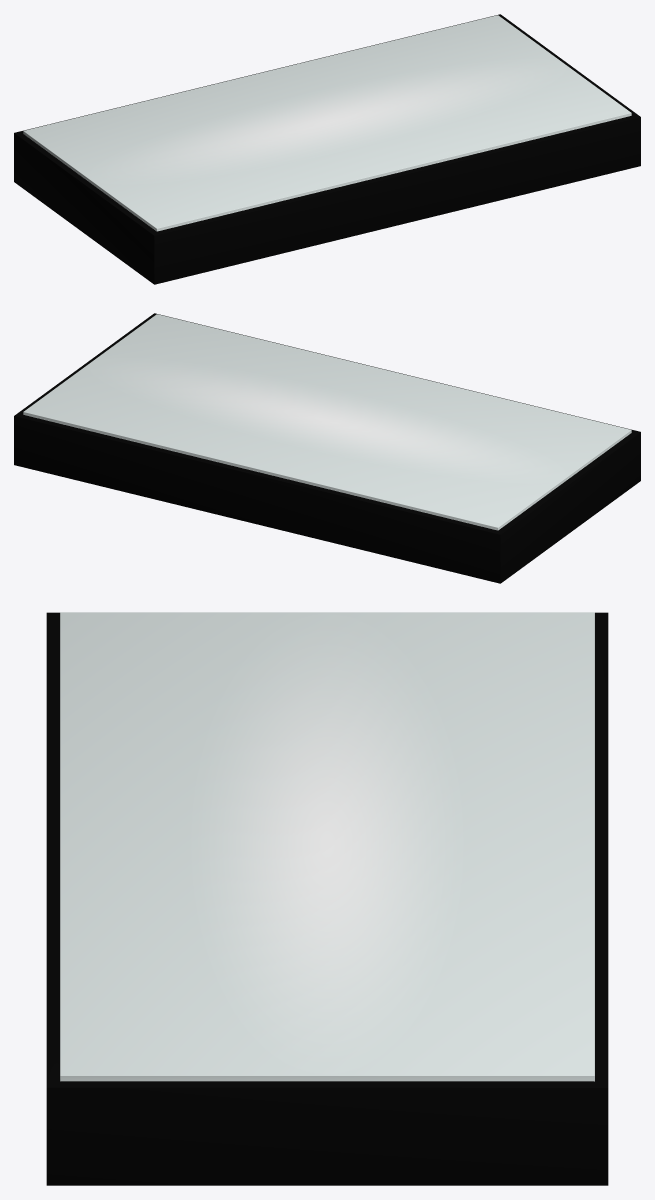
Rendered from unique-tile.fbx.
The picture shows the model from 3 angles, top to bottom: view 1: azimuth 30°, elevation 25°; view 2: azimuth 150°, elevation 25°; view 3: azimuth 270°, elevation 25°; orthographic projection. The views are drawn at different scales.
Visible parts, largest first — view 1: UniqueTileBase; view 2: UniqueTileBase; view 3: UniqueTileBase.
Boxes of the visible parts, box(x1,y1,x2,y2) form: UniqueTileBase: box(14, 14, 640, 284); UniqueTileBase: box(14, 313, 640, 583); UniqueTileBase: box(46, 612, 608, 1185).
Bounding box in the file's own units: 200 × 20.51 × 100.
